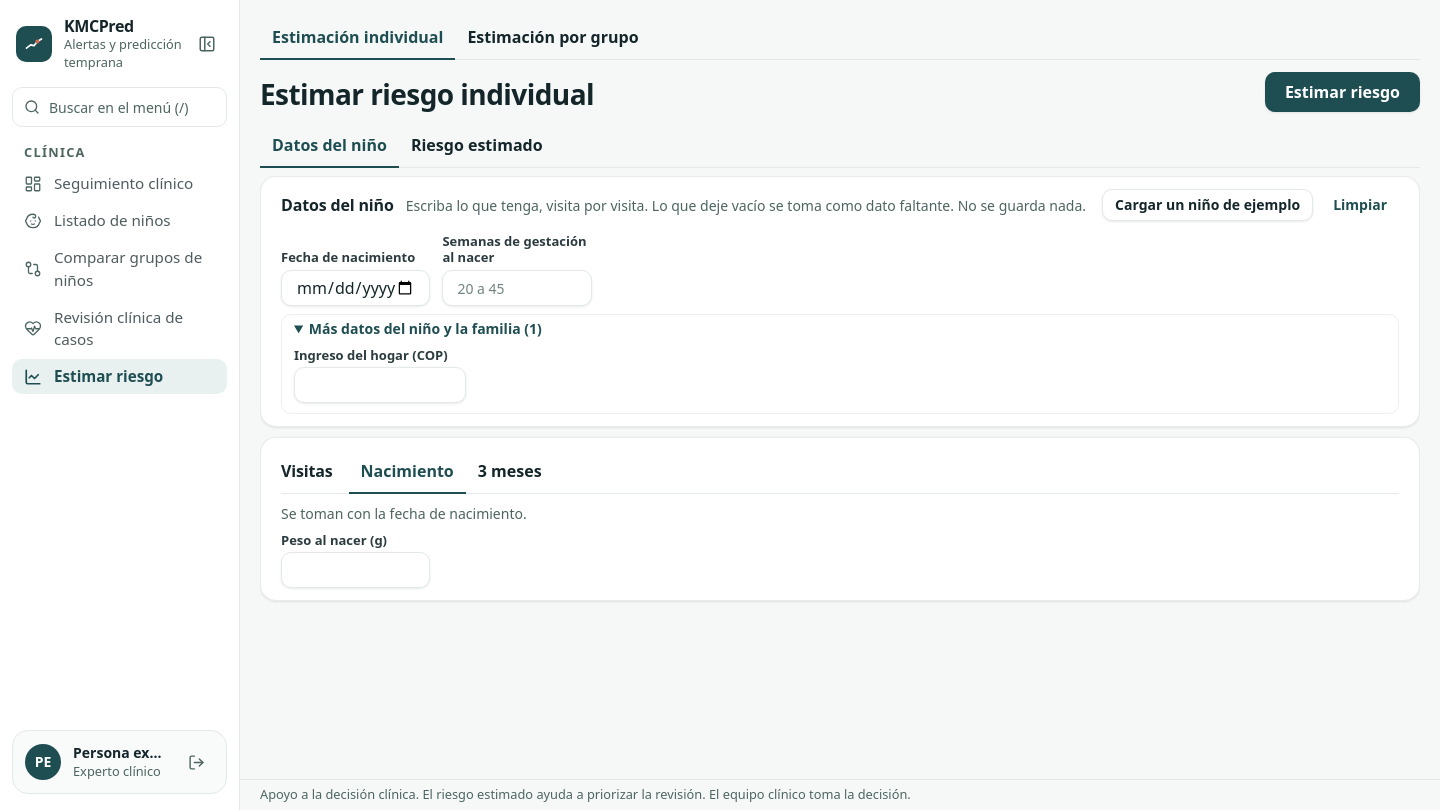
Scenario: el formulario cabe en la ventana: las casillas se reparten a lo ancho y nada ocupa una línea de más › la fecha de la visita es una casilla más de la visita, y la edad esperada se sigue diciendo
Click the tab "3 meses": (510, 472) [466,450,554,494]
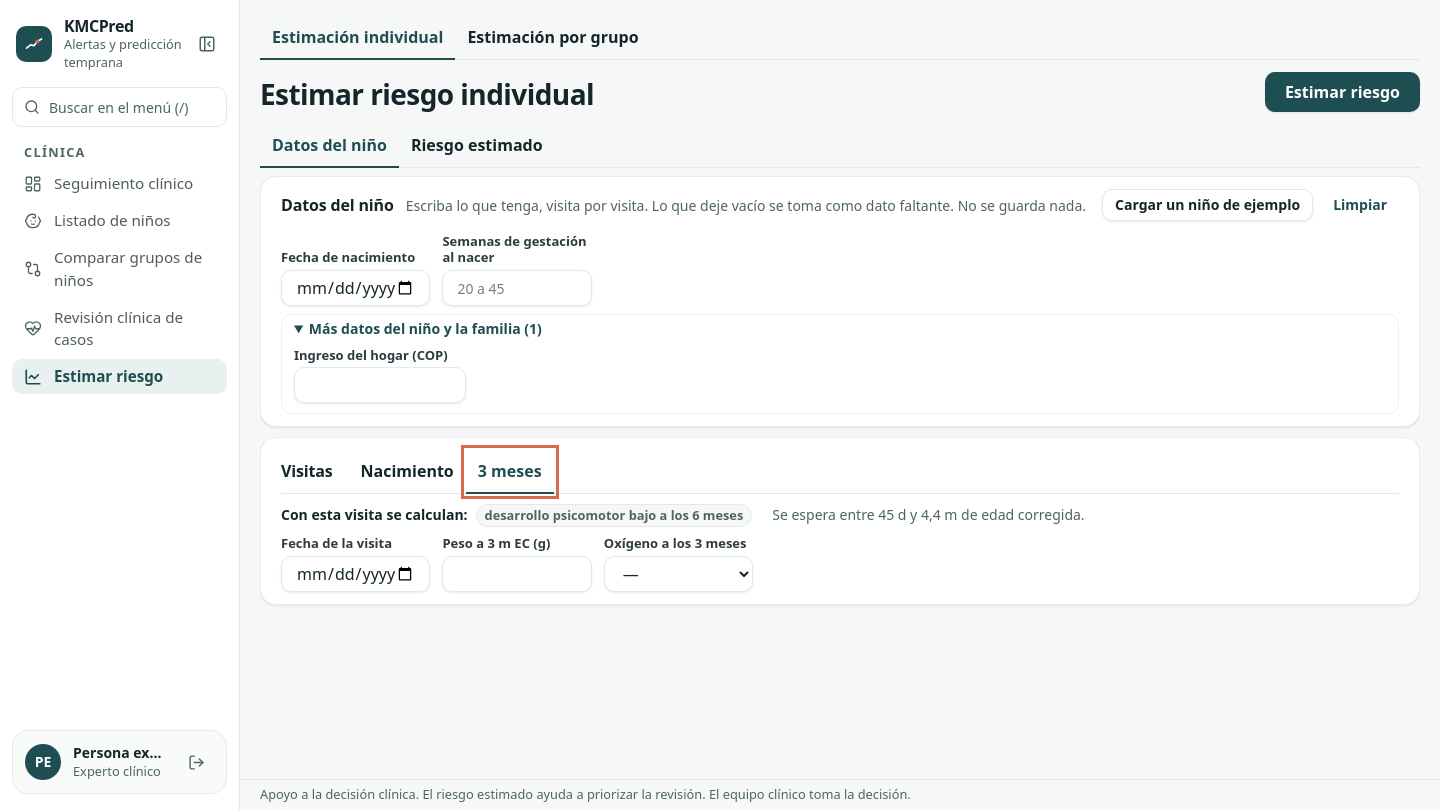
Check: the field labelled "Peso a 3 m EC (g)" is shown, box [442,556,592,592]
Check: the text "Se espera entre 45 d y 4,4 m de edad corregida." is shown, box [772,505,1085,525]
